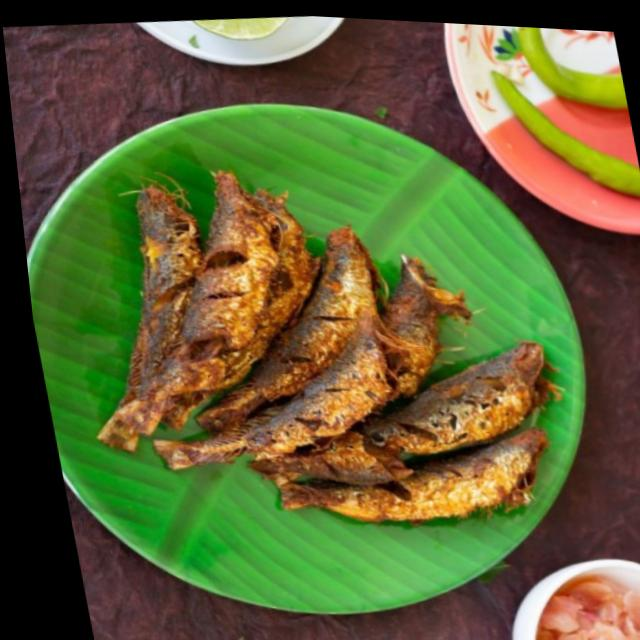FISH FRY: (94, 168, 554, 524)
